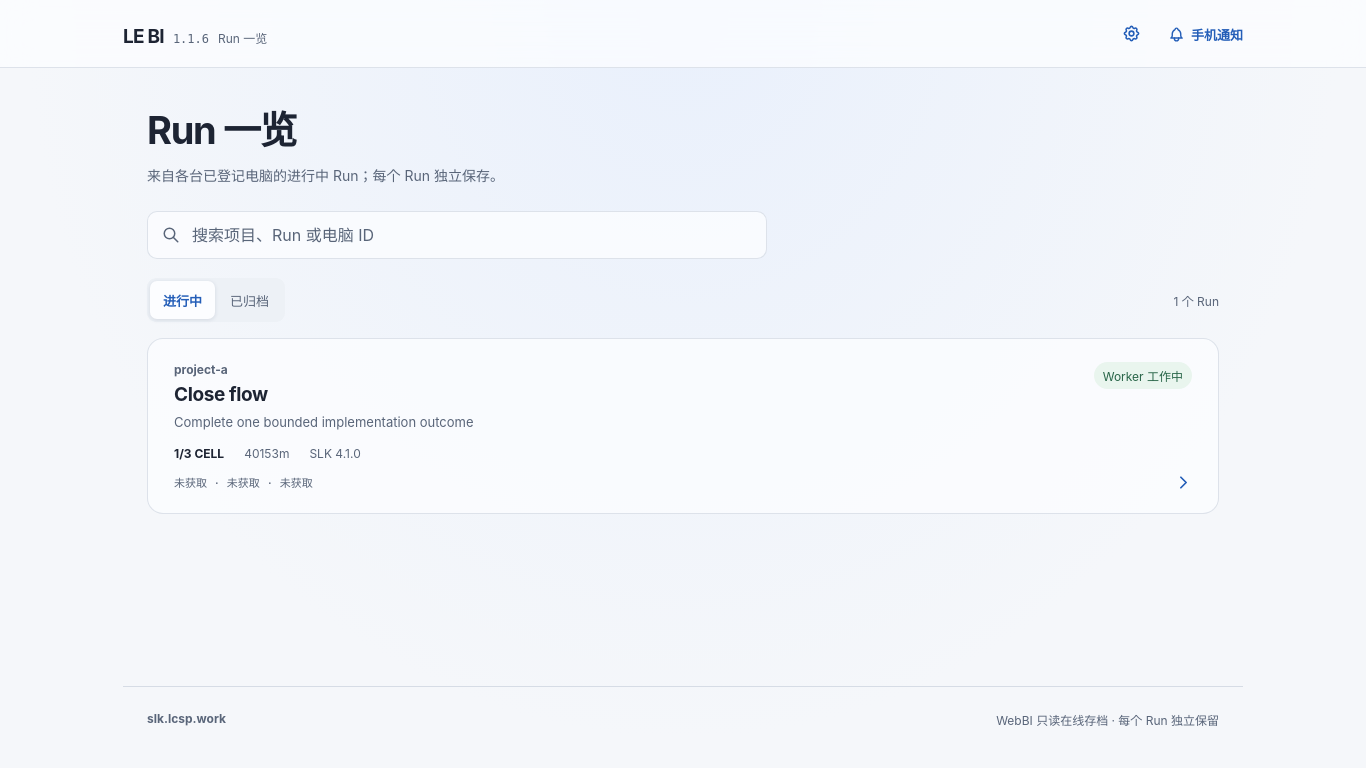
Test case: WebBI 1.1 browser UI › switches to the permanent archive without mixing it into the active list
Check: the text "Close flow" is shown, box [174,383,268,406]
Click the button "已归档" at (250, 300), box [217,281,282,319]
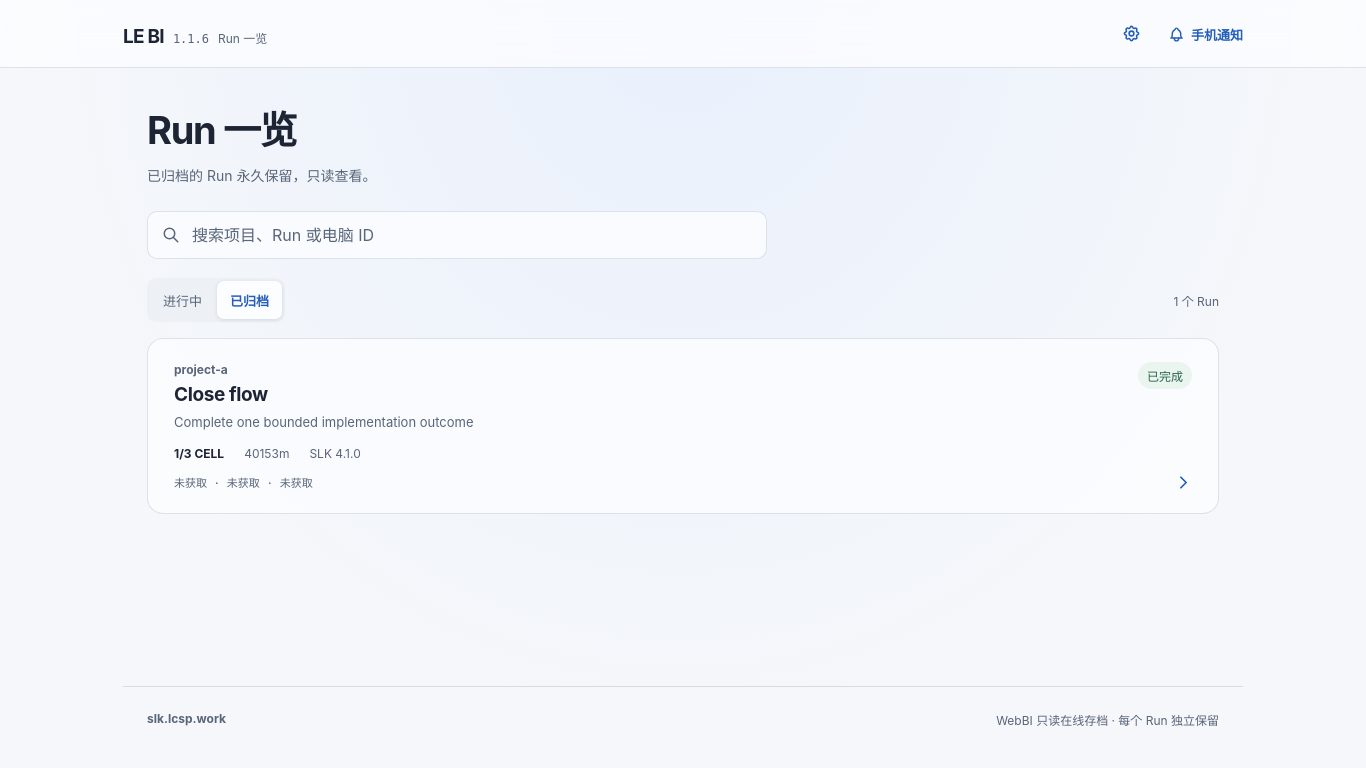
Check: the text "已归档的 Run 永久保留，只读查看。" is shown, box [147,167,376,184]
